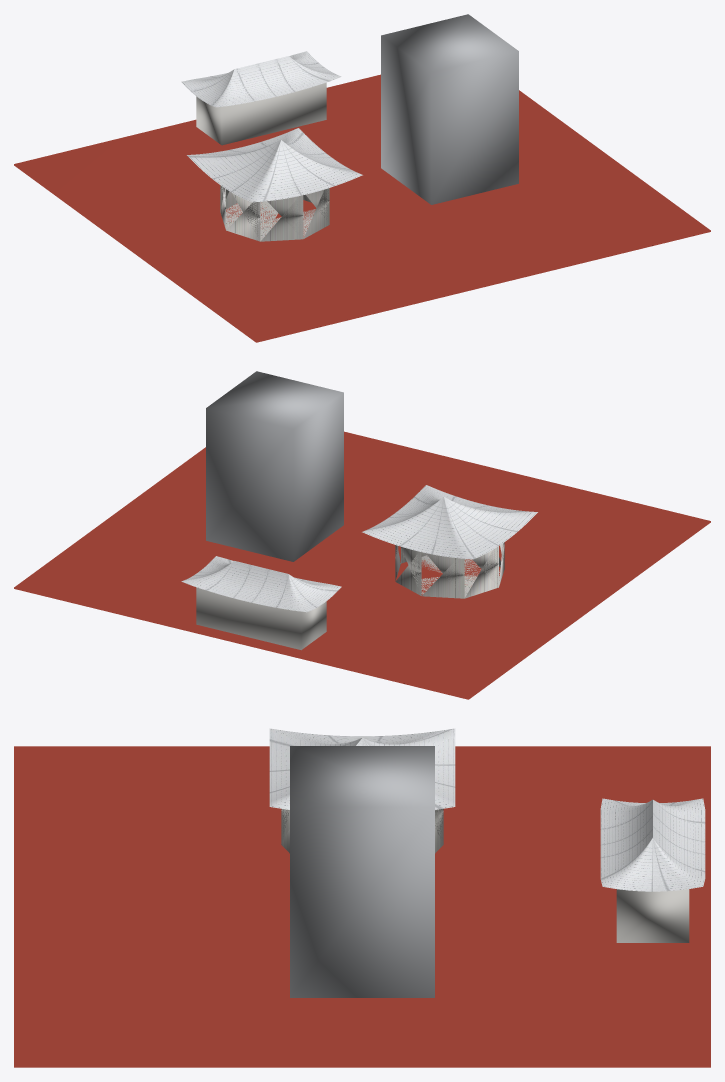
The picture shows the model from 3 angles, top to bottom: view 1: azimuth 30°, elevation 25°; view 2: azimuth 150°, elevation 25°; view 3: azimuth 270°, elevation 25°; orthographic projection. The views are drawn at different scales.
Visible parts, largest first — view 1: ground_simplified, pagoda_simplified, palgakjeong_simplified, gate_simplified; view 2: ground_simplified, pagoda_simplified, palgakjeong_simplified, gate_simplified; view 3: ground_simplified, pagoda_simplified, gate_simplified, palgakjeong_simplified.
Part boxes in pixels (x1,y1,x2,y2): ground_simplified: (14,74,710,342); pagoda_simplified: (381,14,518,204); palgakjeong_simplified: (187,128,362,241); gate_simplified: (181,51,341,145); ground_simplified: (14,431,710,699); pagoda_simplified: (206,371,343,561); palgakjeong_simplified: (362,485,537,598); gate_simplified: (181,556,341,650); ground_simplified: (14,746,710,1067); pagoda_simplified: (290,746,434,997); gate_simplified: (600,798,705,942); palgakjeong_simplified: (269,728,455,853).
Size of the model in its own units: 52 by 14.65 by 48.
Materials: 4 (4 with a texture image).
